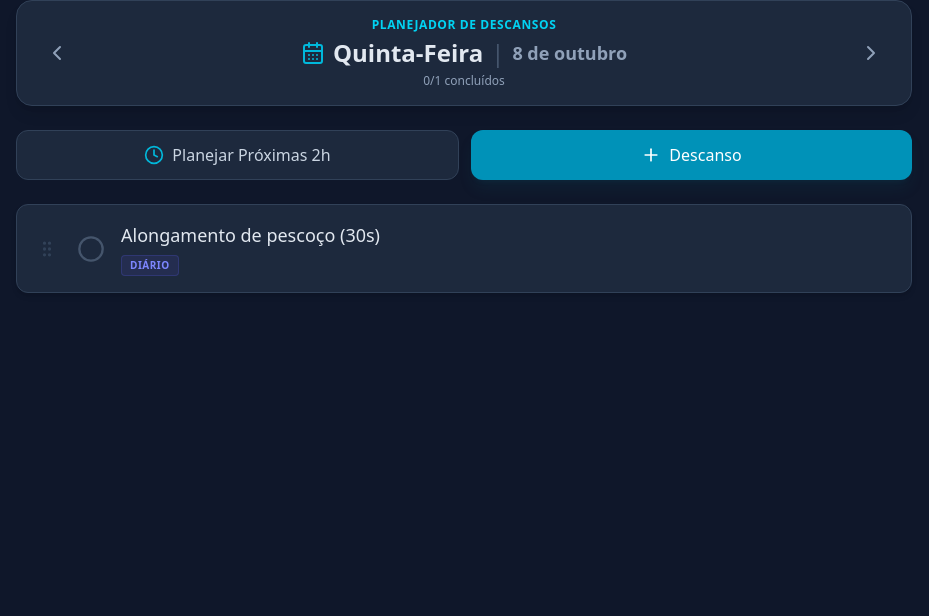
it: RestView - Next 2 Hours Mode › manually adds a rest activity via the input component
The width and height of the screenshot is (929, 616).
Note: Open manual input
Click the button "Descanso" at (692, 155), box [471,130,912,180]
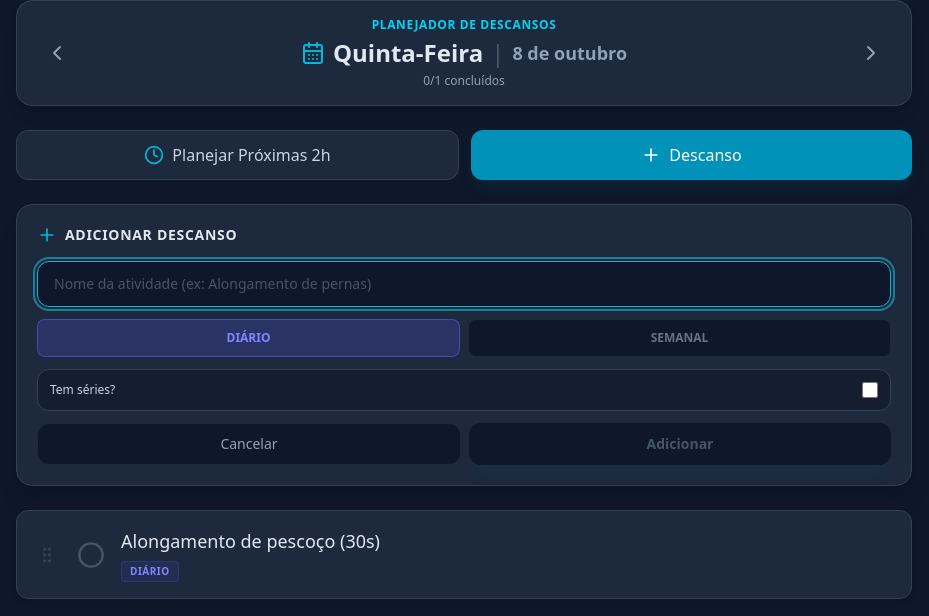
Note: Type name
Type "Atividade Manual Teste" into the field with placeholder "Nome da atividade (ex: Alongamento de pernas)" at (464, 284), box [37,261,891,307]
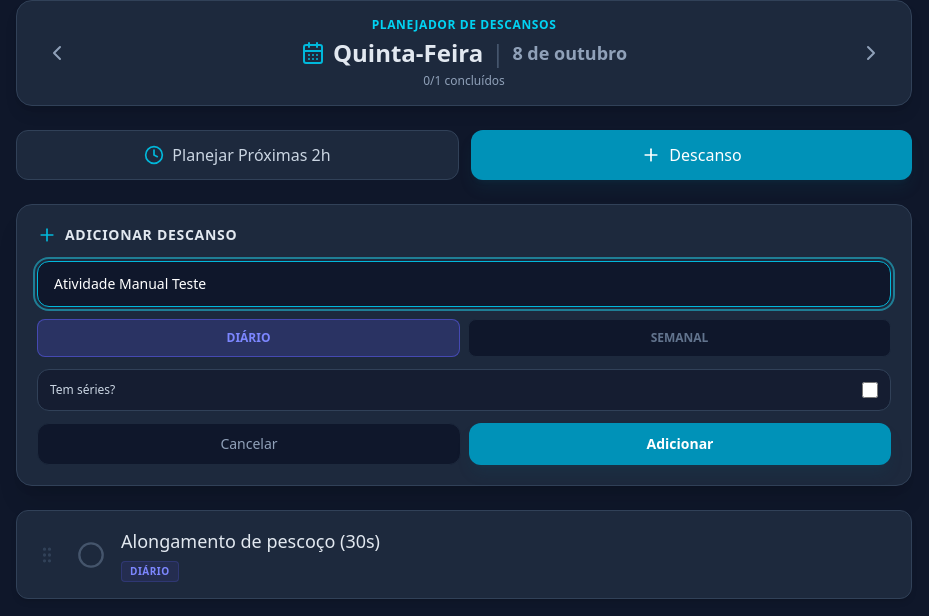
Click the button "Adicionar" at (680, 444), box [469,423,891,465]
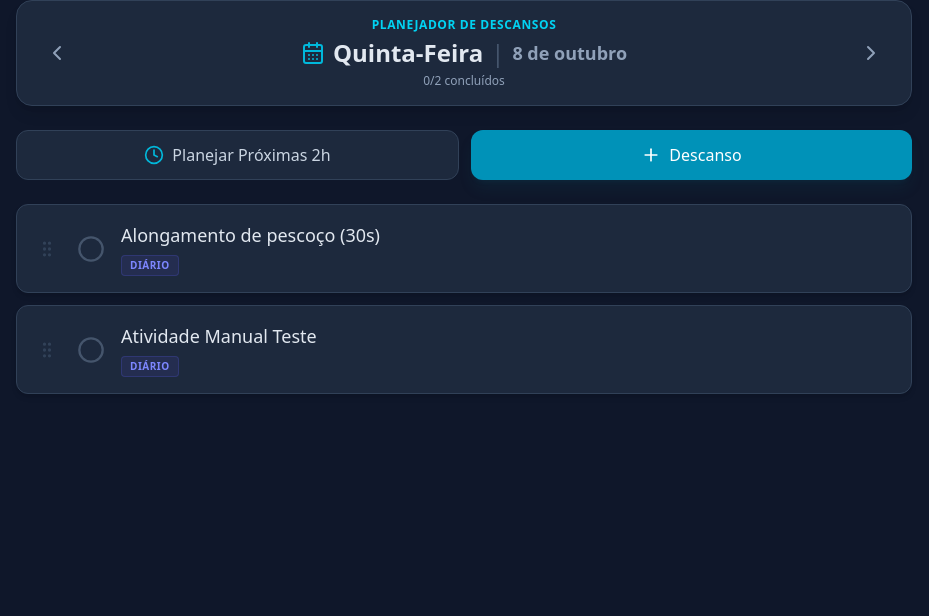
Result: the text "Atividade Manual Teste" is shown at [121,324,317,348]
